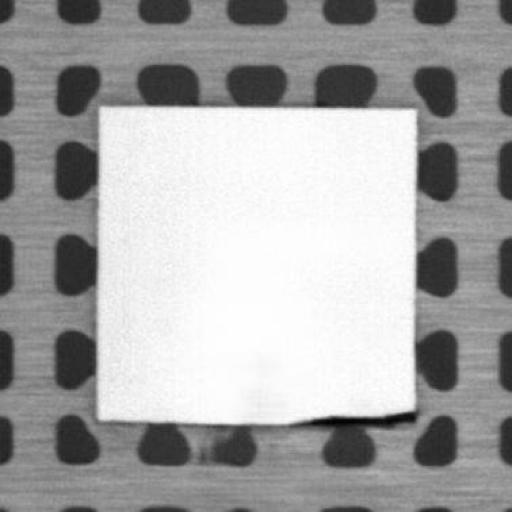DIE_BROKEN: (287, 408, 417, 424)
